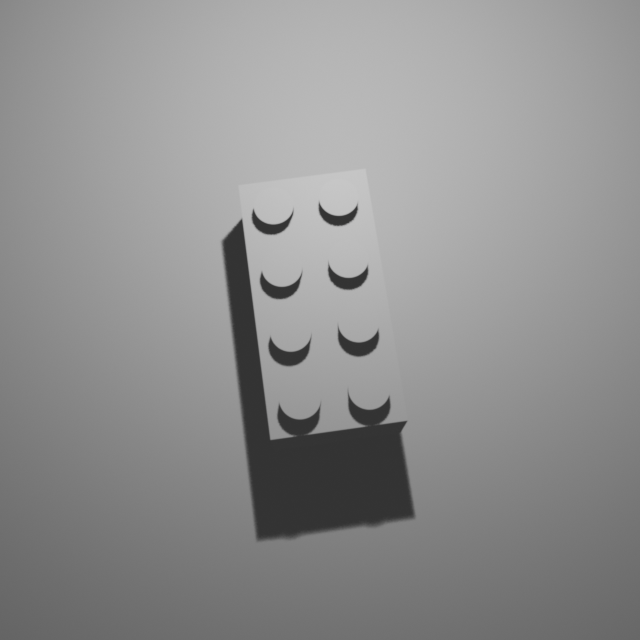lego_2x4: (237, 163, 409, 450)
